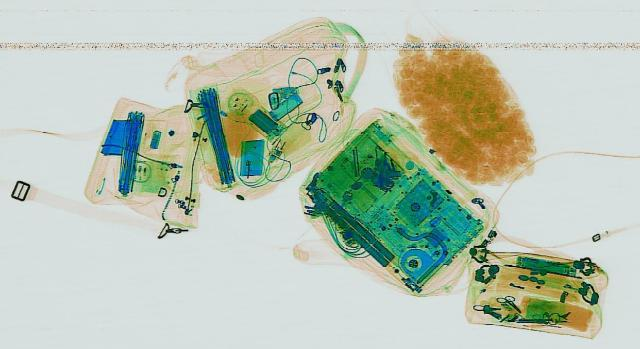Scissors: (494, 294, 528, 315)
